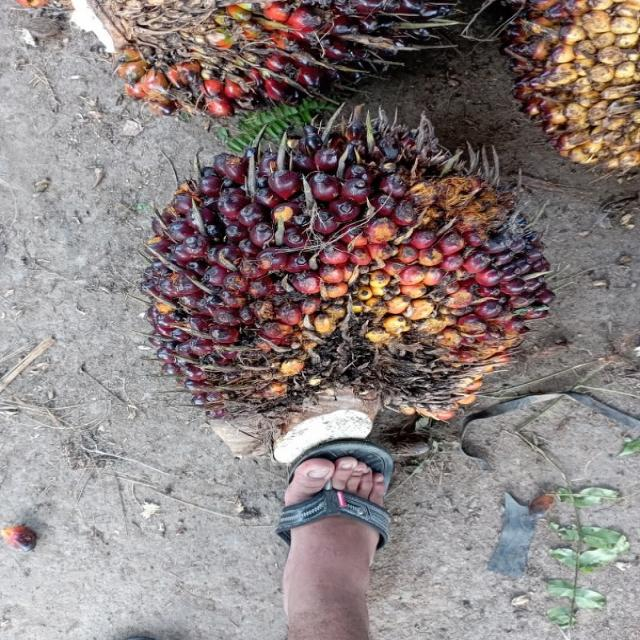fraksi 1: (137, 134, 552, 410)
